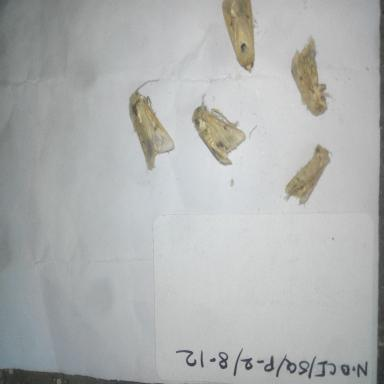abw: (126, 74, 177, 178), (190, 94, 250, 168), (288, 30, 336, 121), (282, 139, 336, 209), (219, 0, 261, 77)
